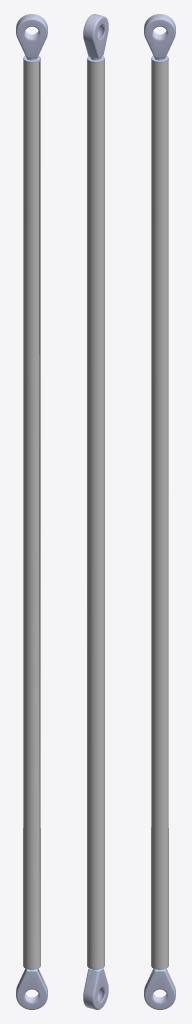
Rendered from lowerArm.dae.
3 views of the same model, side by side, from view 1: azimuth 90°, elevation 25°; view 2: azimuth 150°, elevation 25°; view 3: azimuth 270°, elevation 25° (orthographic).
Visible parts, largest first — view 1: Component_1 (×5); view 2: Component_1 (×3); view 3: Component_1 (×5).
Boxes of the visible parts, bbox=[...] form: Component_1 (×5): bbox=[16, 14, 47, 1009]; Component_1 (×3): bbox=[83, 14, 108, 1009]; Component_1 (×5): bbox=[144, 14, 175, 1009].
Bounding box in the file's own units: 0.1967 × 0.354 × 12.16.
